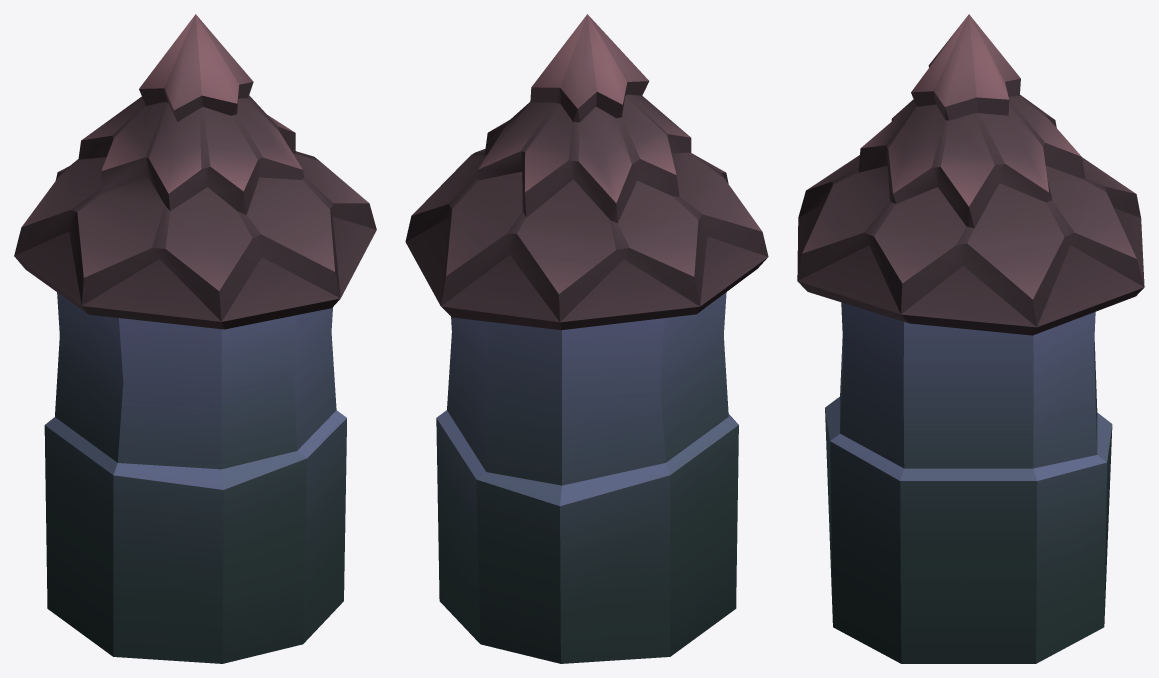
Rendered from undead_house_tower.fbx.
3 views of the same model, side by side, from view 1: azimuth 30°, elevation 25°; view 2: azimuth 150°, elevation 25°; view 3: azimuth 270°, elevation 25° (orthographic).
Parts seen in each view (by area): view 1: undead_house_tower; view 2: undead_house_tower; view 3: undead_house_tower.
Part boxes in pixels (x1,y1,x2,y2): undead_house_tower: (14,14,376,663); undead_house_tower: (405,14,768,663); undead_house_tower: (797,14,1144,663).
Bounding box in the file's own units: 4.69 × 8.95 × 4.74.
